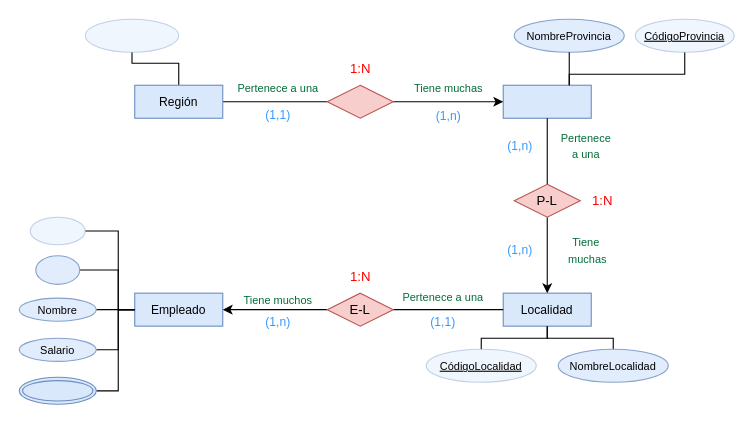
Image size: 754x424. Some labels were removed from this diagram. Here are the shapes that lost their labels. From the top down, the centre of each, then its label:
At pixel 131 35: "NombreRegión".
At pixel 359 101: "R-P".
At pixel 546 101: "Provincia".
At pixel 57 230: "ID_E".
At pixel 57 269: "DNI_E".
At pixel 57 390: "Teléfono".
